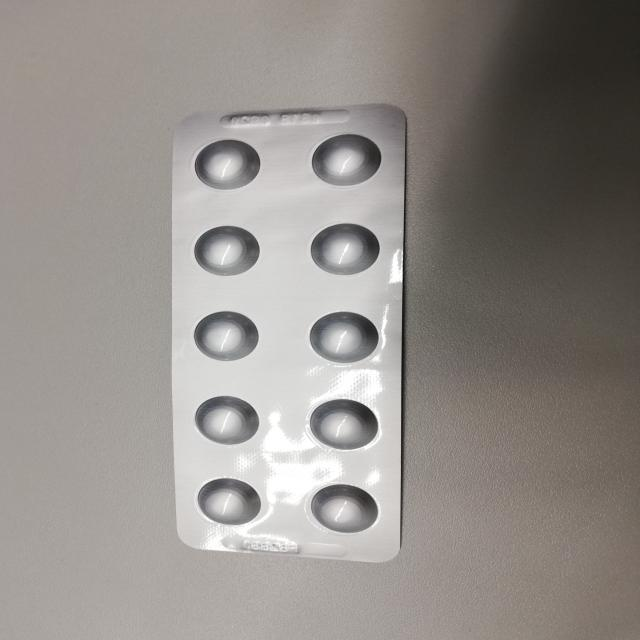Pill: (296, 214, 393, 282), (302, 479, 391, 546), (294, 130, 394, 188), (300, 307, 387, 372), (300, 394, 387, 458), (189, 469, 270, 535), (178, 390, 268, 449), (178, 217, 265, 276), (180, 300, 258, 364), (182, 136, 268, 193)
